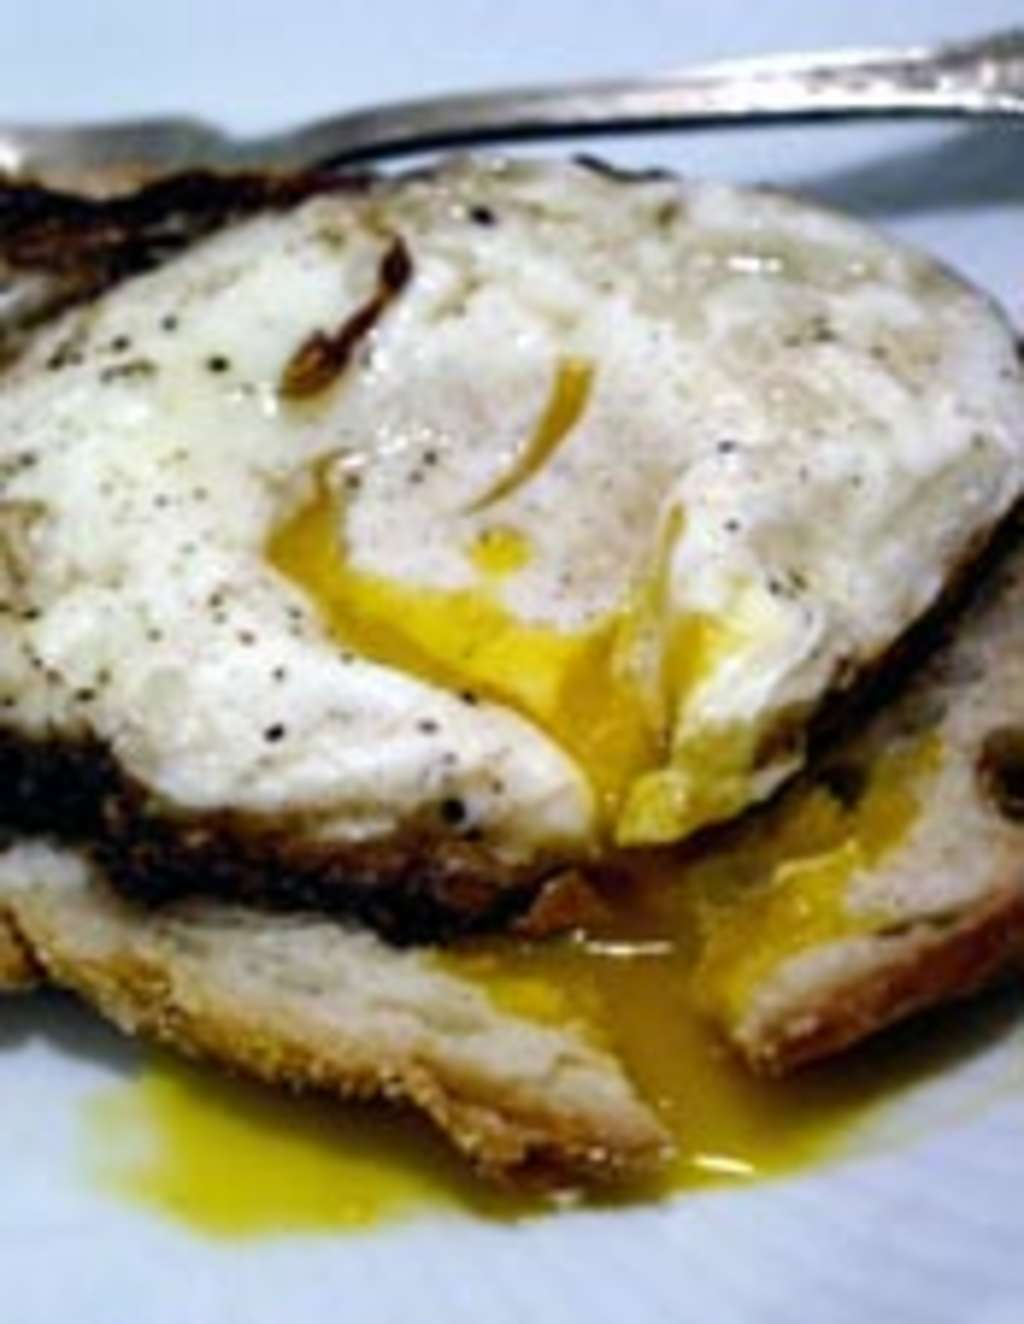fried egg: (1, 150, 1006, 798)
